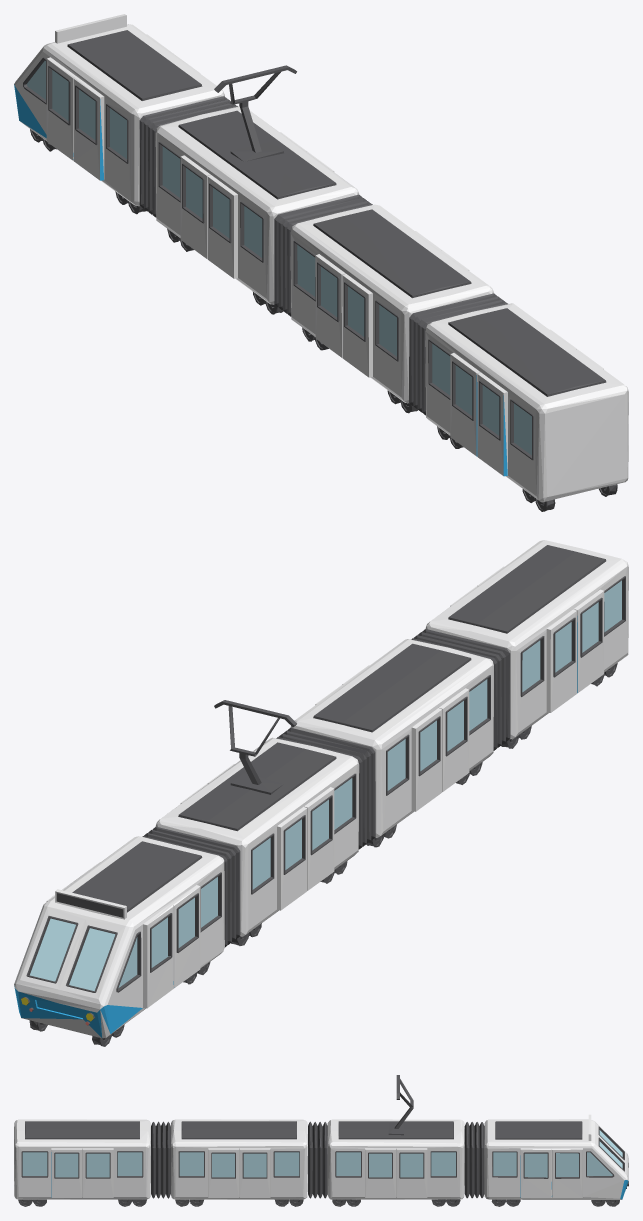
File: train.glb
The picture shows the model from 3 angles, top to bottom: view 1: azimuth 30°, elevation 25°; view 2: azimuth 150°, elevation 25°; view 3: azimuth 270°, elevation 25°; orthographic projection. The views are drawn at different scales.
Visible parts, largest first — view 1: colored_tram; view 2: colored_tram; view 3: colored_tram.
Boxes of the visible parts, x1,y1,x2,y2 form: colored_tram: (14, 14, 628, 511); colored_tram: (14, 540, 628, 1046); colored_tram: (14, 1075, 628, 1206).
Bounding box in the file's own units: 3.33 × 6.01 × 29.7.
